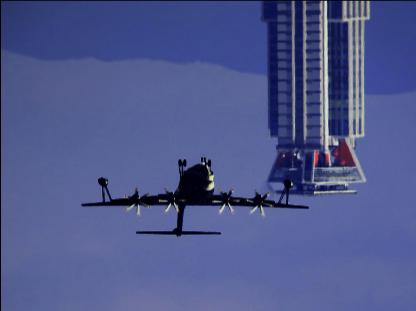Tu95: (79, 156, 307, 238)
